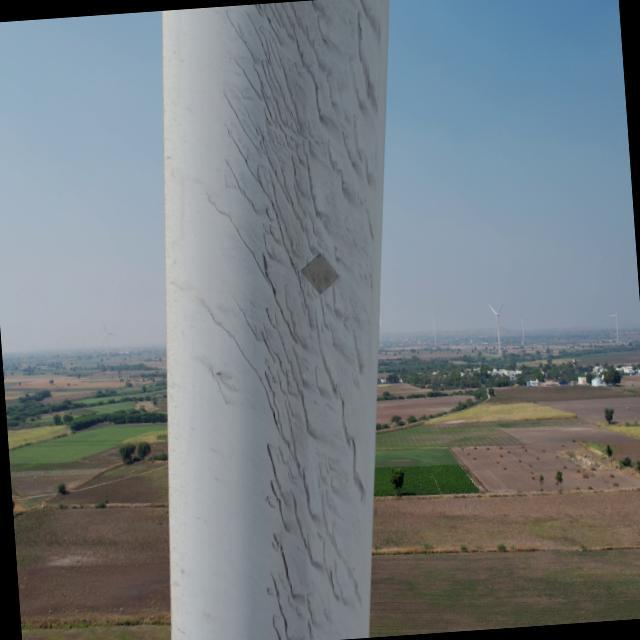Dirt: (218, 2, 393, 640)
